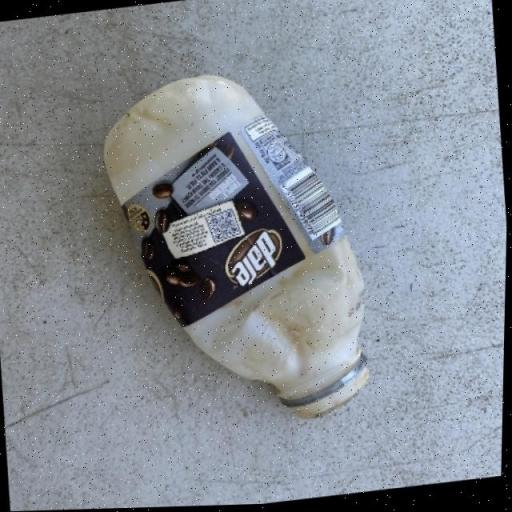plastic: (92, 57, 381, 442)
